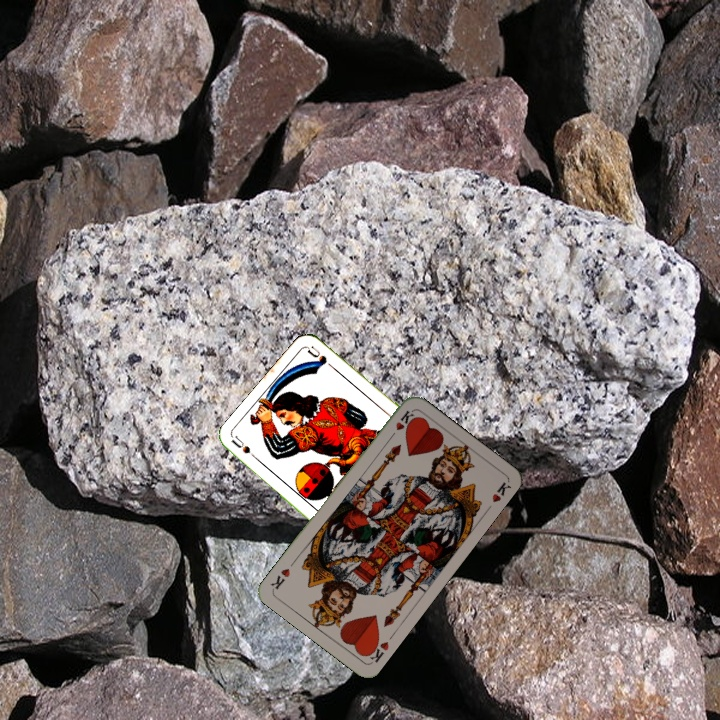HK: (385, 406, 417, 442), (362, 635, 391, 666)
SU: (228, 433, 264, 465)
